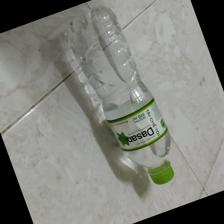Dasani: (62, 6, 175, 185)
